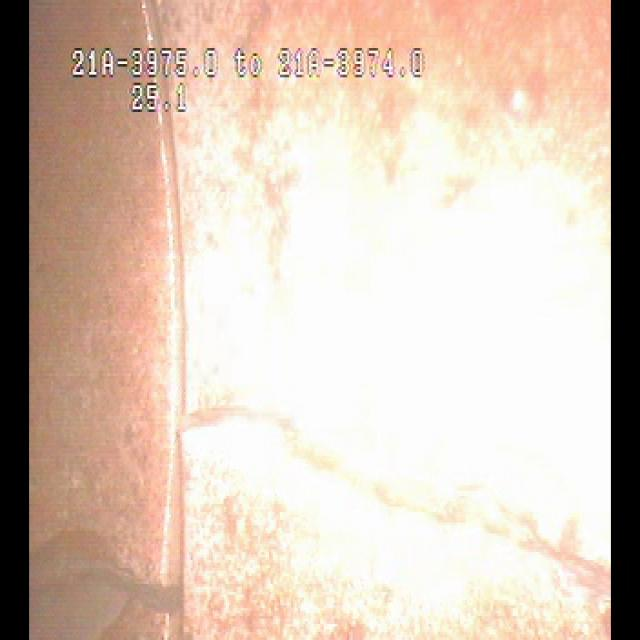Crack: (203, 359, 538, 590)
